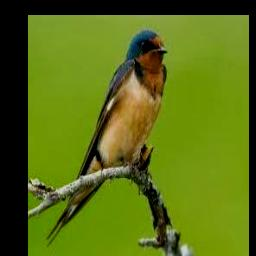Swallow: (45, 29, 167, 247)
